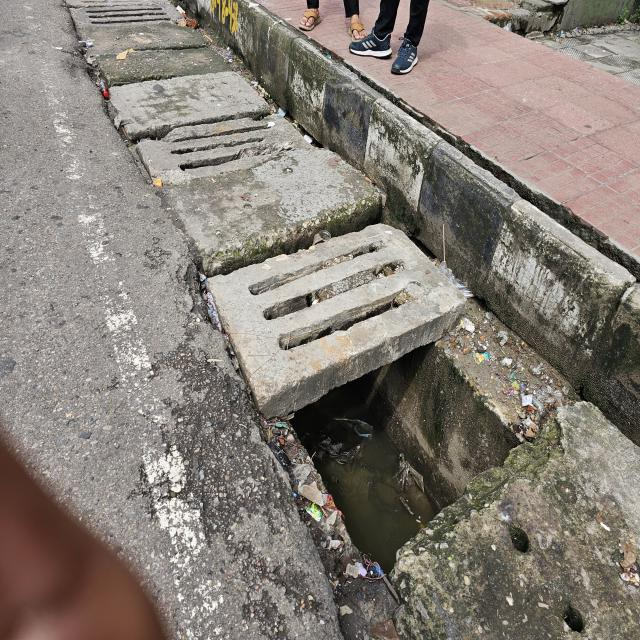drain_inlet: (296, 343, 527, 574)
